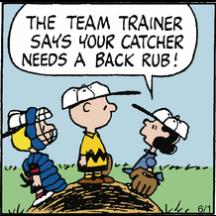charlie: (62, 80, 119, 182)
